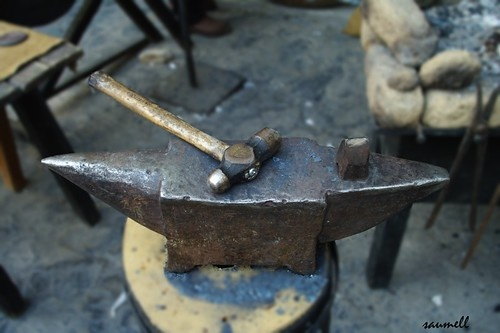hammer: (83, 68, 282, 192)
